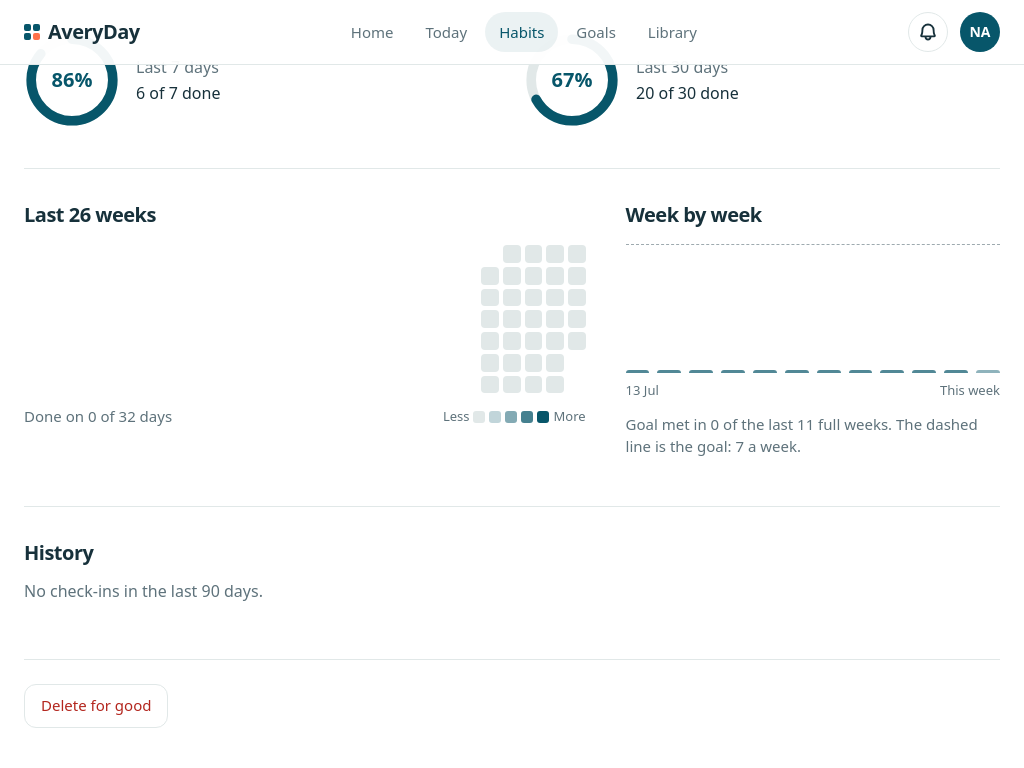
Scenario: habit detail › deletes for good only after a second tap, then goes back to the list
This screenshot has width=1024, height=768.
(page scrolled)
Click the button "Delete for good" at [96, 706], box [24,684,168,728]
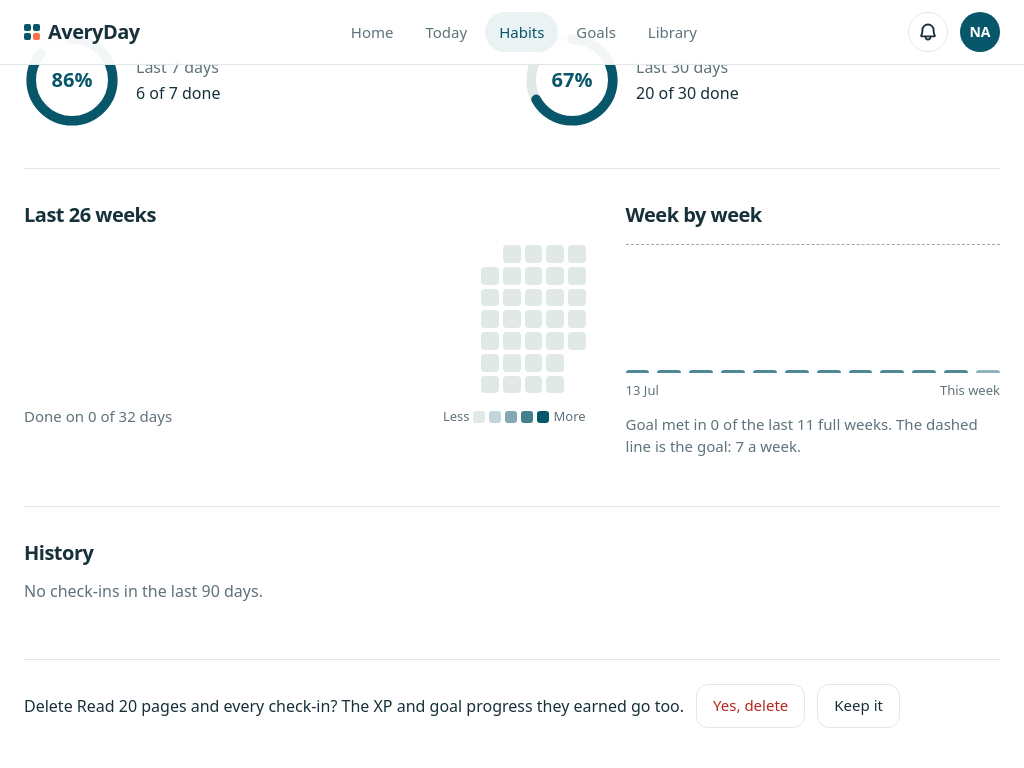
Click the button "Yes, delete" at [751, 706], box [696,684,805,728]
(page scrolled)
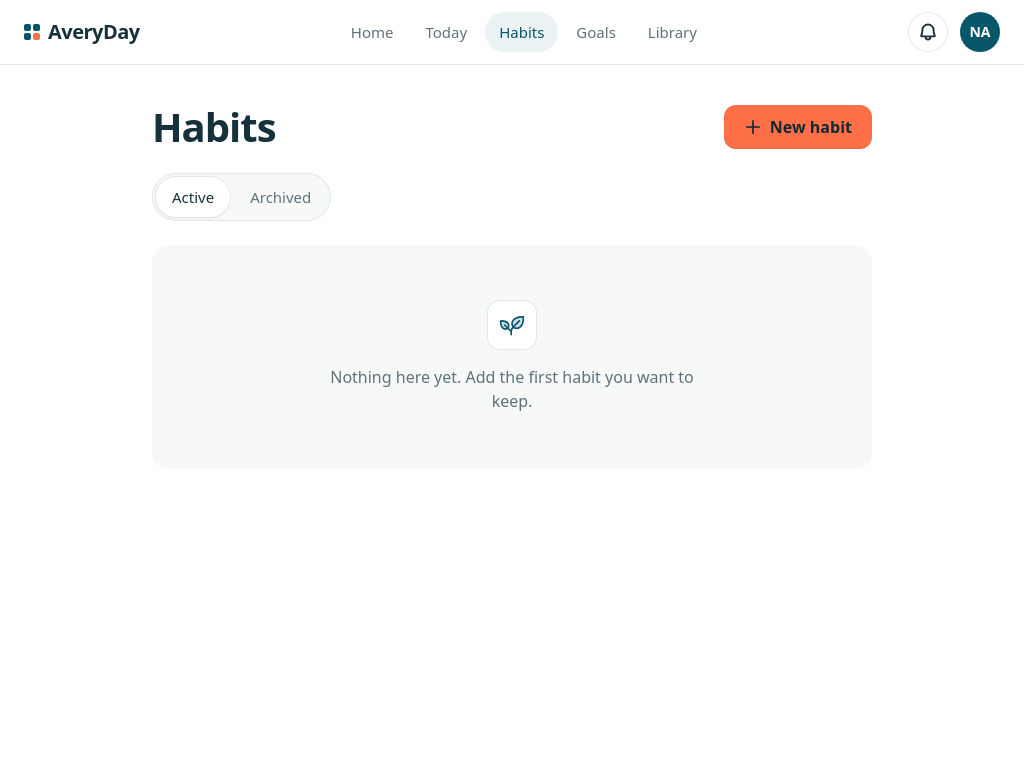
Now the heading "Habits" is shown, box [152,105,276,149]
